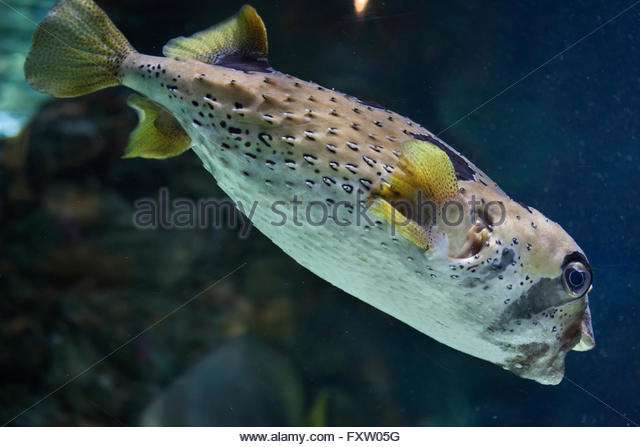Diodon_holocanthus: (25, 1, 617, 393)
